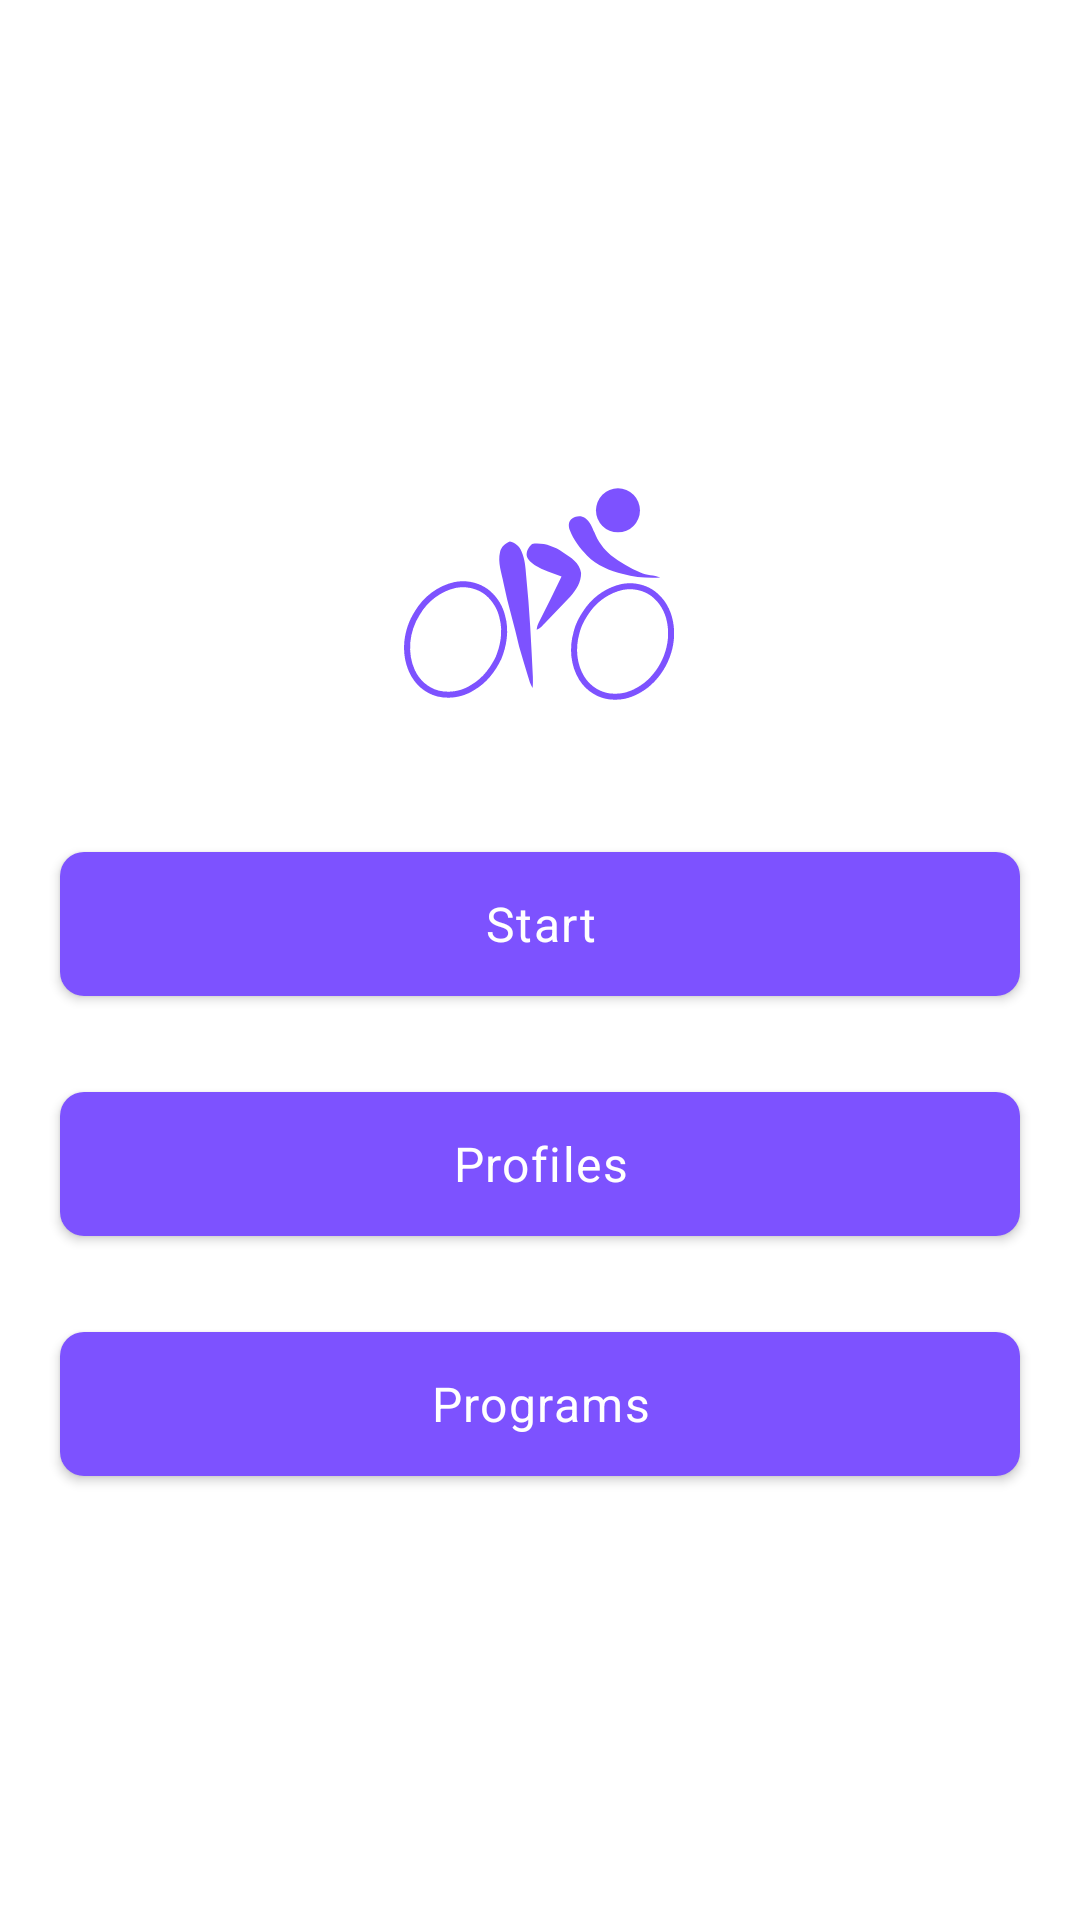

Icon click points for this 1080px x 1920px phone screenshot, format (x,y):
cycling road: (539,594)
